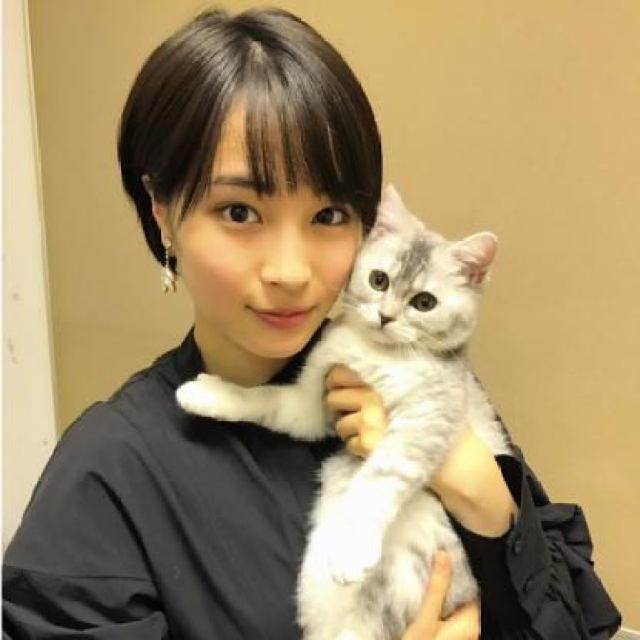cat: (178, 164, 498, 640)
